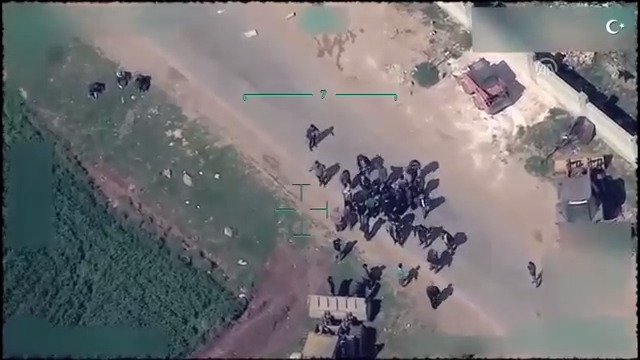arac: (547, 144, 625, 229), (455, 49, 520, 122)
insan: (304, 119, 326, 153), (324, 228, 345, 263), (422, 280, 443, 313), (522, 255, 540, 290), (438, 226, 459, 255), (359, 257, 378, 289), (308, 157, 328, 187), (352, 152, 375, 178), (393, 260, 413, 288)
